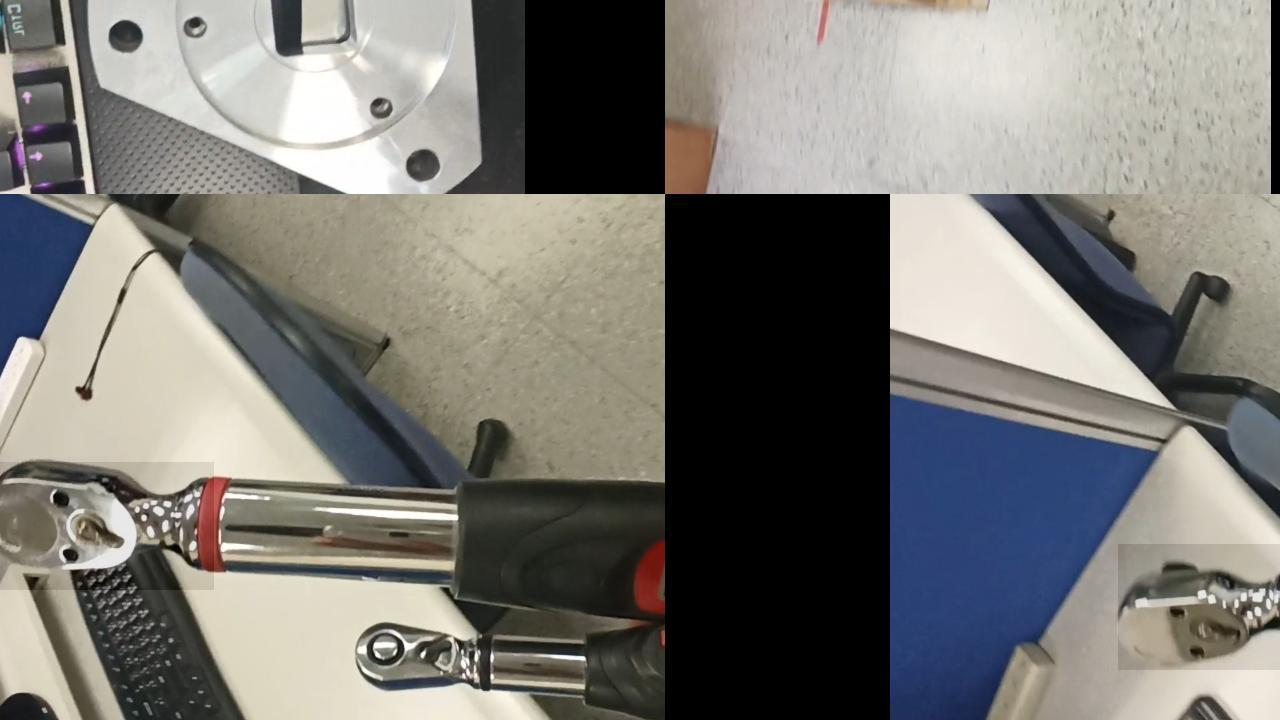Tool: (0, 462, 213, 590), (1117, 544, 1280, 670), (352, 620, 478, 698)
